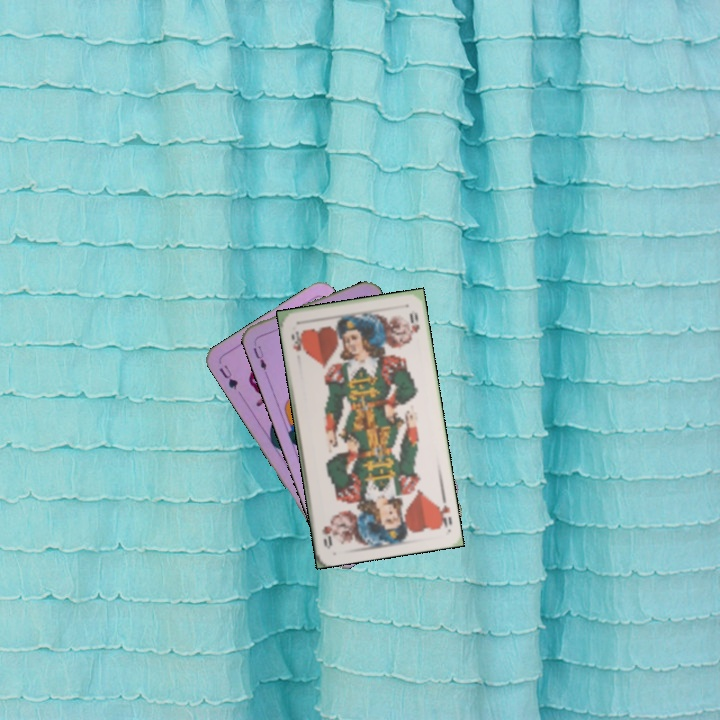EU: (249, 337, 269, 372)
GU: (215, 361, 241, 392)
HO: (432, 491, 454, 531), (287, 327, 304, 354)
